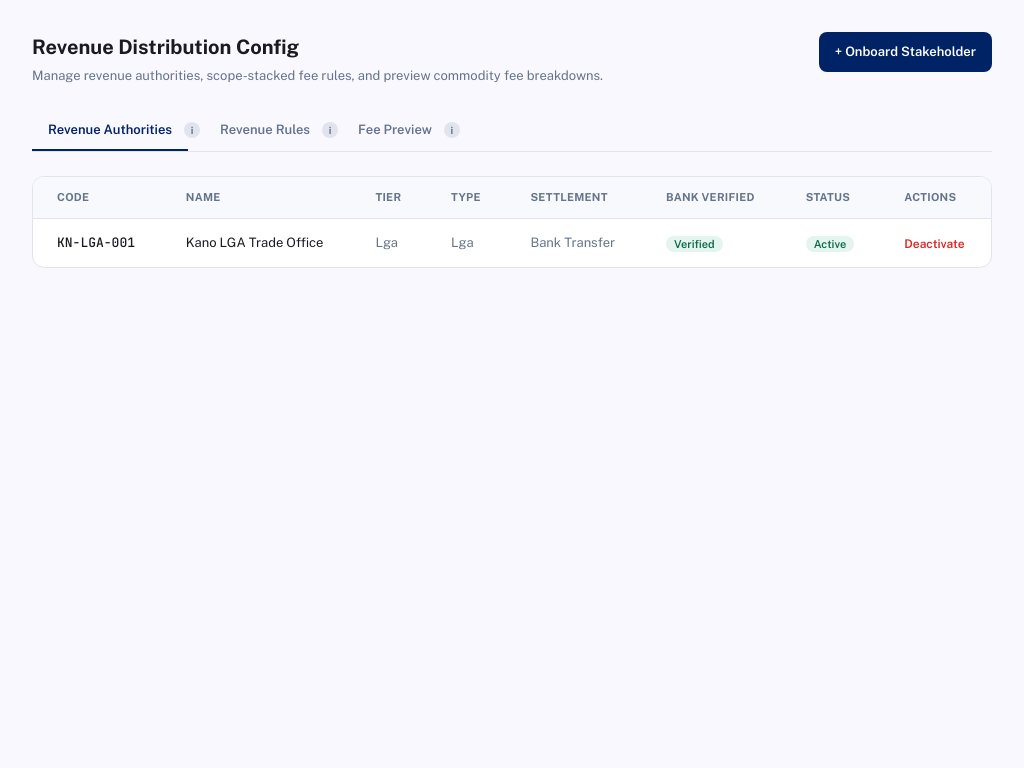
Scenario: AC-07: Fee preview › renders the breakdown total after submitting the preview form
Click the button "Fee Preview" at (395, 130), box [342, 110, 448, 151]
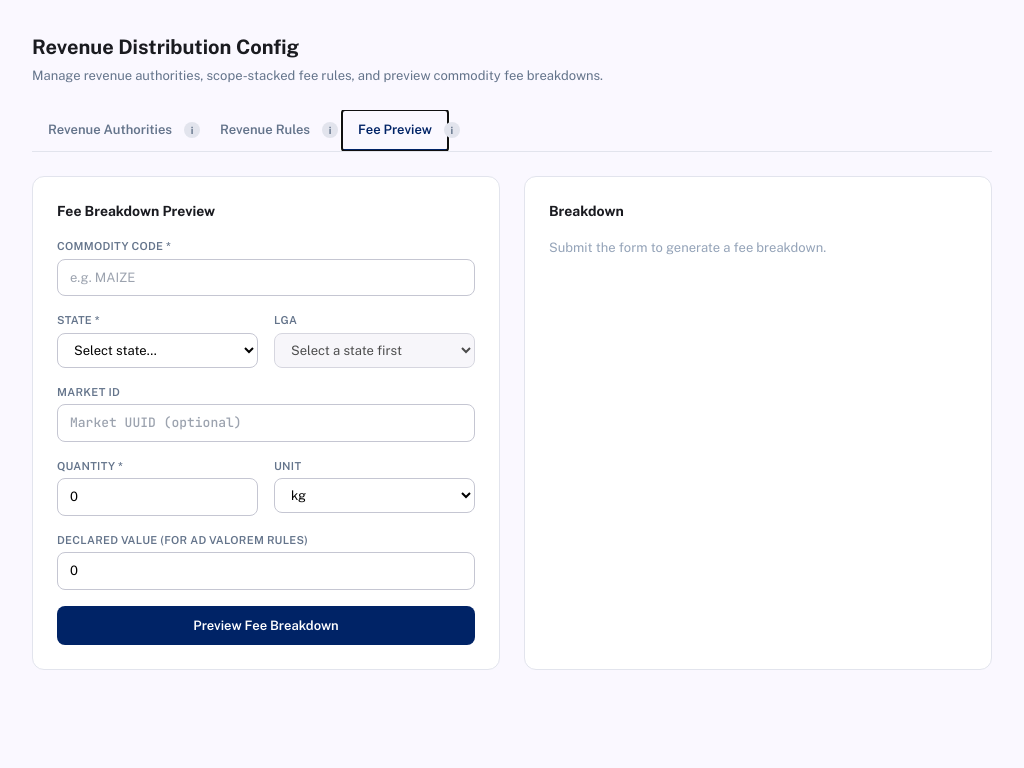
Type "MAIZE" into the field with placeholder "e.g. MAIZE" at (266, 277), box [57, 258, 475, 296]
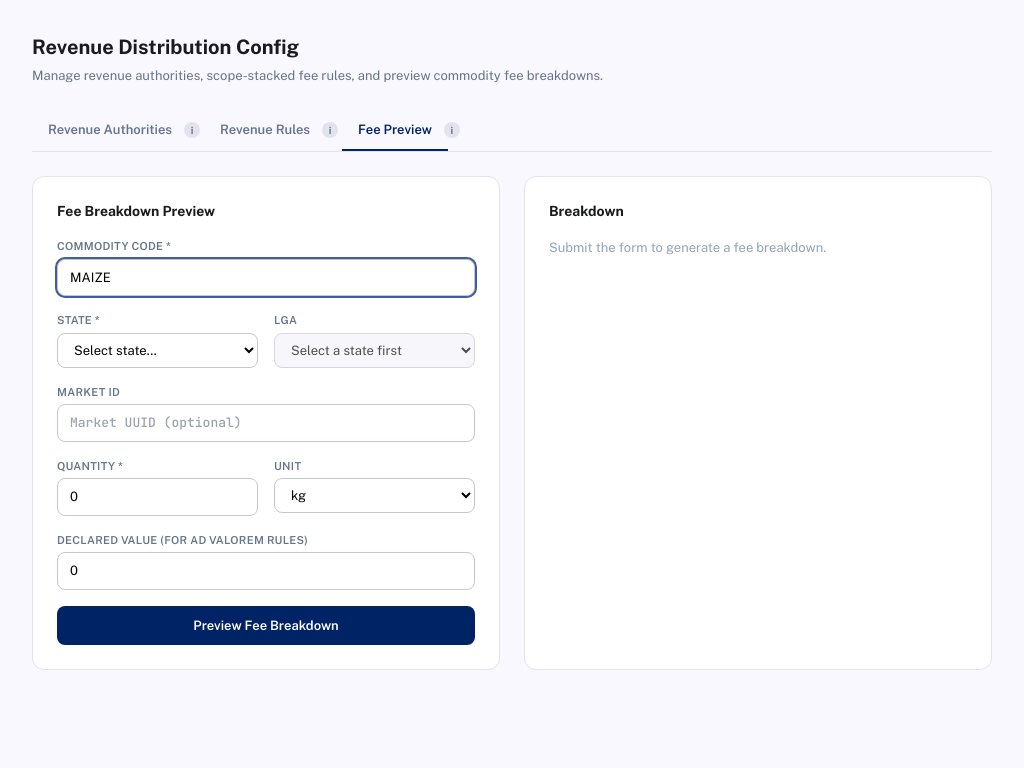
Select "Kano" in the dropdown below "State *" at (158, 350), box [57, 332, 258, 368]
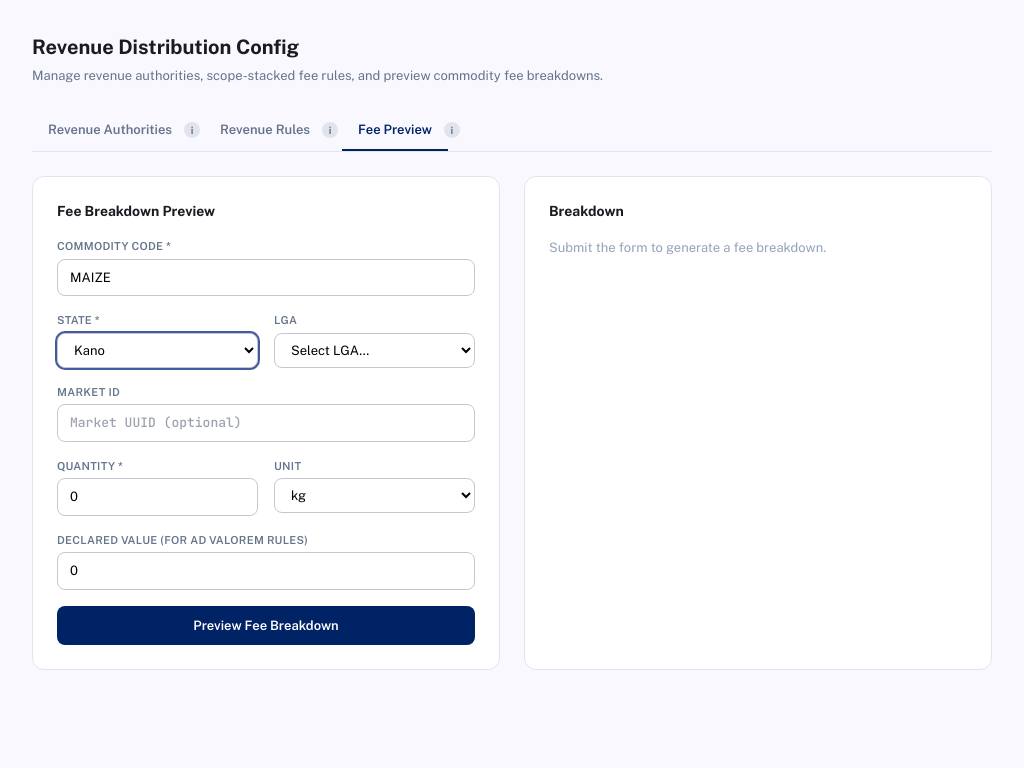
Replace the text in the number field below "Quantity *" with "100" at (158, 497), box [57, 478, 258, 516]
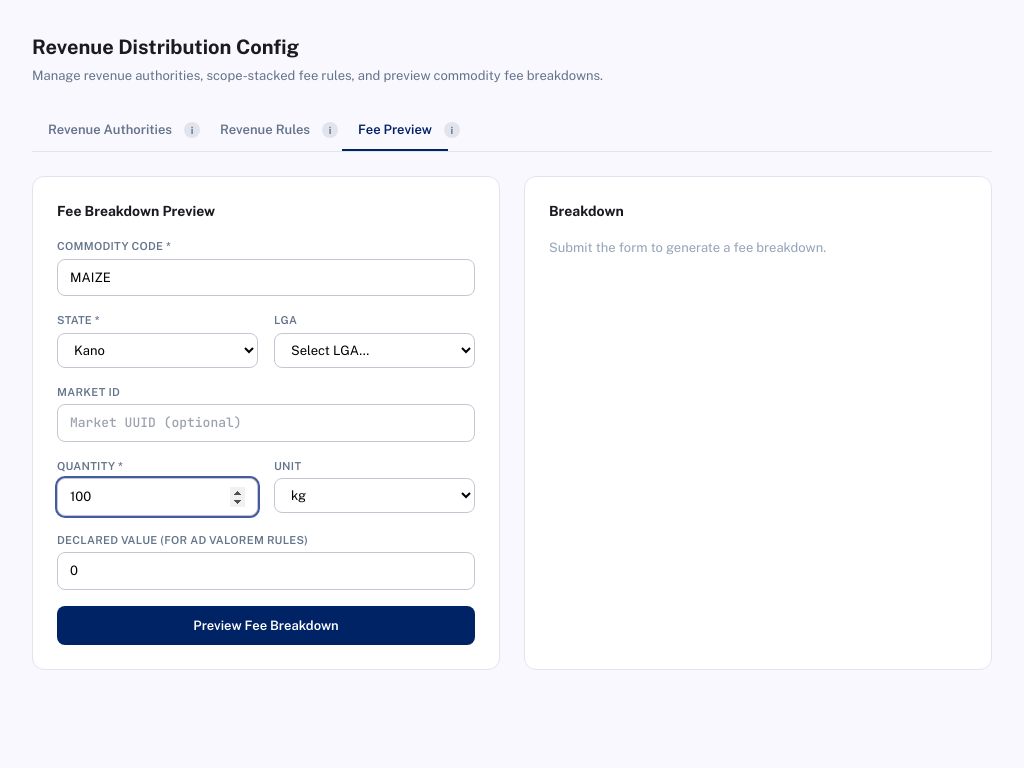
Click the button "Preview Fee Breakdown" at (266, 625), box [57, 606, 475, 645]
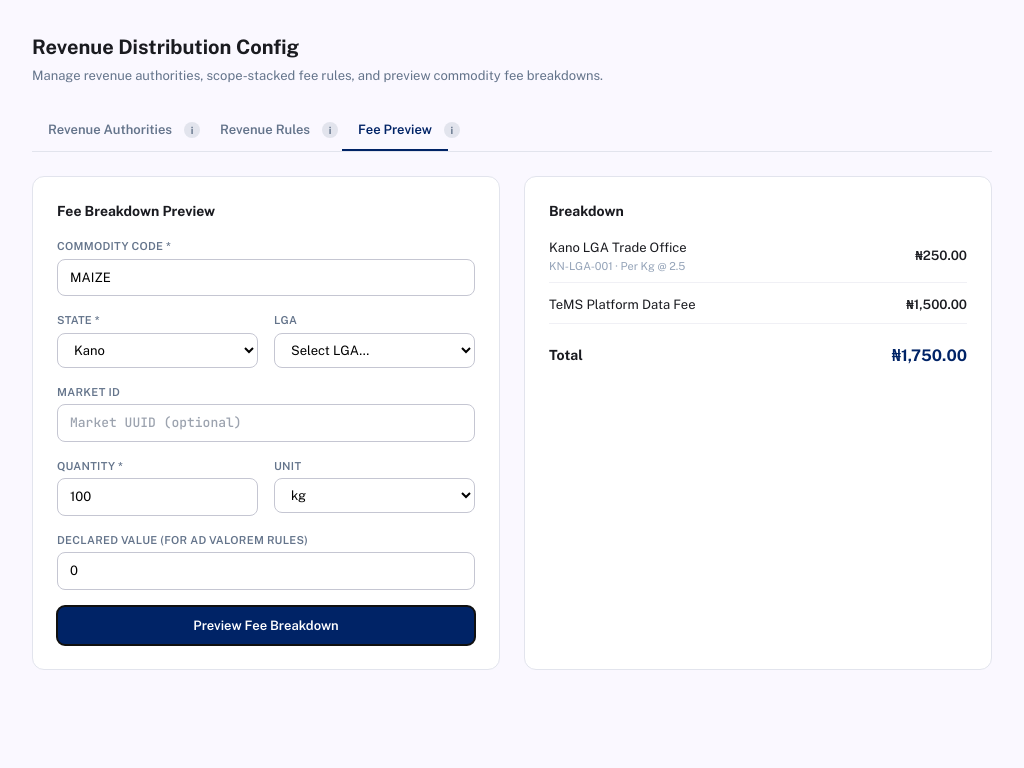
Now the text "₦1,750.00" is shown, box [892, 344, 967, 368]
